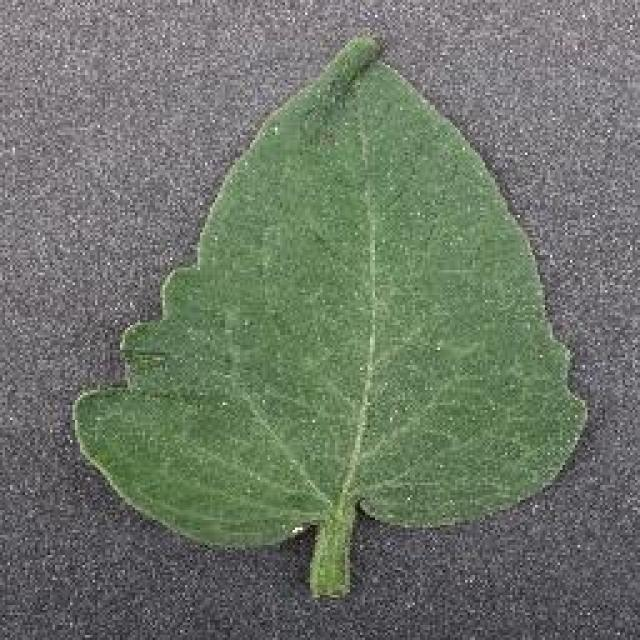Healthy: (65, 28, 600, 610)
